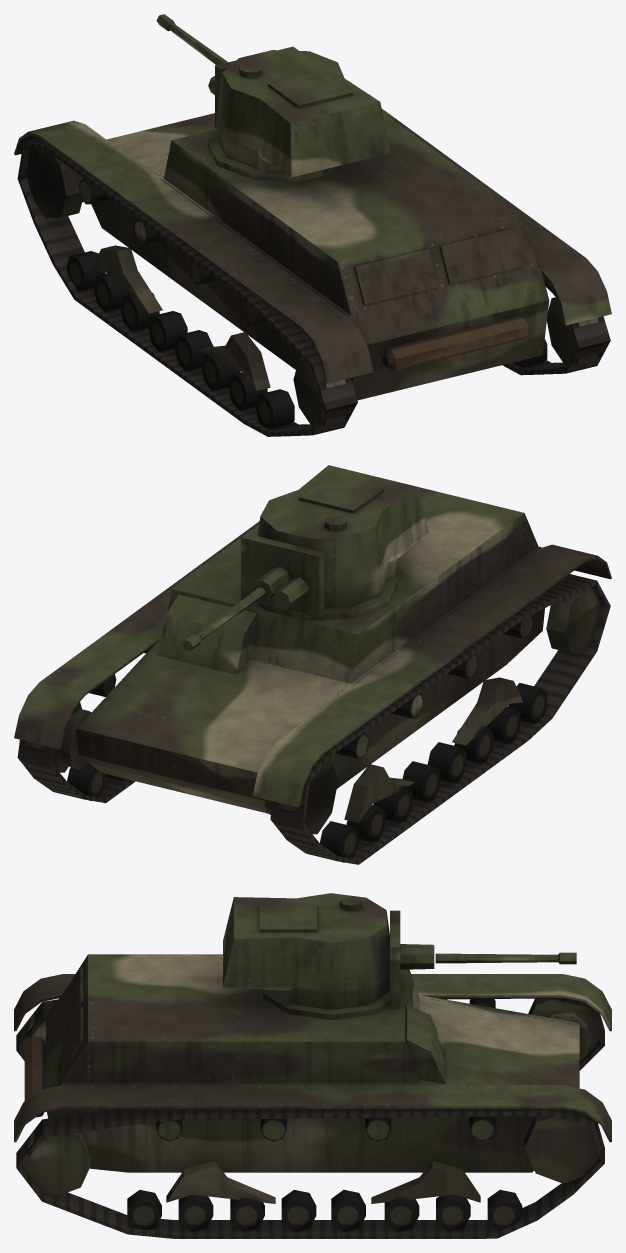
The model's file is TP7_JW_MID.fbx.
3 renders of one model, top to bottom at view 1: azimuth 30°, elevation 25°; view 2: azimuth 150°, elevation 25°; view 3: azimuth 270°, elevation 25°, orthographic. The views are drawn at different scales.
Parts seen in each view (by area): view 1: Chassis, Tourelle_01, Chenille_Gauche_01, Roue_G1, Chenille_Droite_01, Roue_G10, Roue_D10, Roue_G9, Roue_G5, Roue_G6, Roue_G2, Roue_G3 (+4 smaller); view 2: Chassis, Tourelle_01, Chenille_Gauche_01, Axe_Canon_01, Roue_G10, Chenille_Droite_01, Roue_G1, Roue_G6, Roue_G5, Roue_G2, Roue_G9, Canon_01 (+5 smaller); view 3: Chassis, Tourelle_01, Chenille_Droite_01, Roue_D1, Roue_D10, Axe_Canon_01, Chenille_Gauche_01, Canon_01, Roue_D6, Roue_D5, Roue_D9, Roue_D2 (+5 smaller).
Part boxes in pixels (x1,y1,x2,y2): Chassis: [14, 108, 611, 400]; Tourelle_01: [207, 50, 390, 181]; Chenille_Gauche_01: [17, 137, 357, 436]; Roue_G1: [27, 147, 82, 217]; Chenille_Droite_01: [502, 274, 610, 375]; Roue_G10: [293, 359, 345, 426]; Roue_D10: [547, 297, 598, 364]; Roue_G9: [255, 389, 294, 428]; Roue_G5: [148, 311, 187, 352]; Roue_G6: [174, 330, 213, 371]; Roue_G2: [66, 251, 105, 291]; Roue_G3: [93, 273, 128, 312]; Chassis: [14, 487, 611, 822]; Tourelle_01: [257, 465, 428, 620]; Chenille_Gauche_01: [270, 574, 610, 864]; Axe_Canon_01: [241, 533, 324, 618]; Roue_G10: [546, 587, 601, 653]; Chenille_Droite_01: [17, 739, 135, 803]; Roue_G1: [278, 759, 337, 834]; Roue_G6: [427, 742, 466, 783]; Roue_G5: [402, 761, 440, 802]; Roue_G2: [320, 821, 358, 862]; Roue_G9: [508, 683, 547, 724]; Canon_01: [182, 587, 265, 650]; Chassis: [14, 954, 611, 1203]; Tourelle_01: [223, 893, 401, 1019]; Chenille_Droite_01: [16, 1108, 604, 1238]; Roue_D1: [524, 1116, 602, 1183]; Roue_D10: [22, 1132, 91, 1196]; Axe_Canon_01: [390, 910, 434, 1006]; Chenille_Gauche_01: [16, 997, 604, 1070]; Canon_01: [435, 952, 576, 964]; Roue_D6: [281, 1189, 316, 1231]; Roue_D5: [331, 1190, 365, 1231]; Roue_D9: [127, 1190, 161, 1229]; Roue_D2: [487, 1189, 522, 1230].
Bounding box in the file's own units: 240 × 458 × 213.
1 material, 1 textured.
